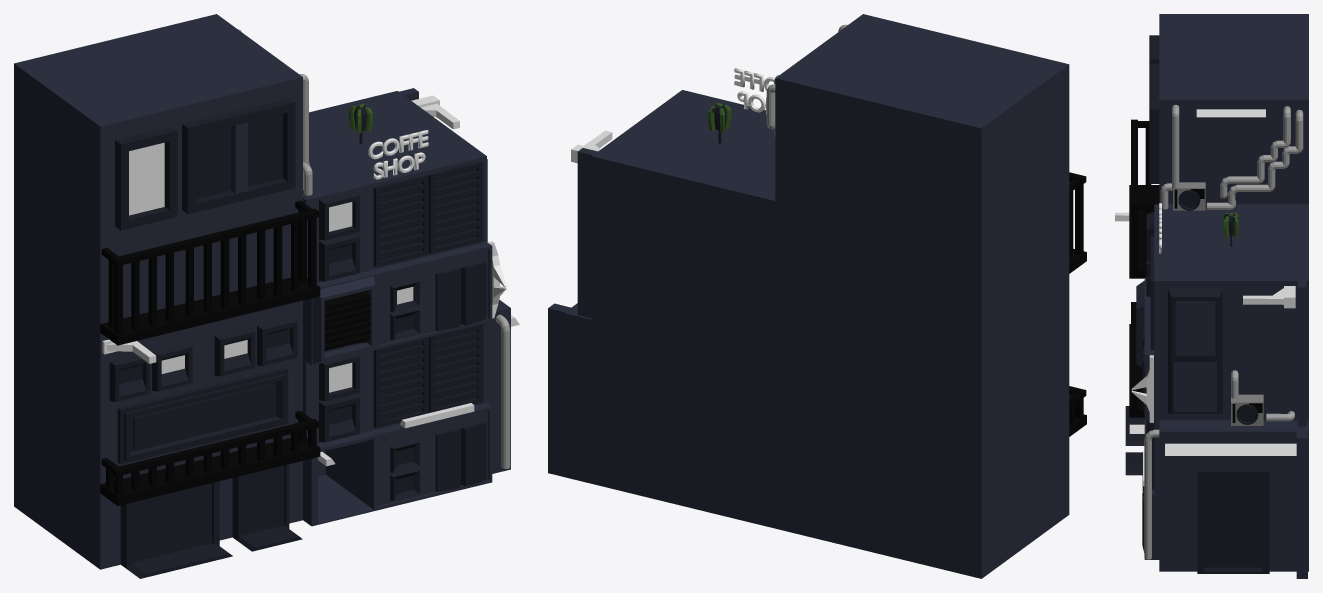
The model's file is bina3.fbx.
3 views of the same model, side by side, from view 1: azimuth 30°, elevation 25°; view 2: azimuth 150°, elevation 25°; view 3: azimuth 270°, elevation 25° (orthographic). The views are drawn at different scales.
Visible parts, largest first — view 1: Cube.001, Cube.041, Cube, Cube.033, Cube.060, Cube.048, Plane.008, Cube.058, Text.004, Cube.044, Cube.056, Cube.010 (+1 smaller); view 2: Cube.001, Cube, Cube.033, Text.004; view 3: Cube.001, Cube, Cube.041, Plane.008, Cube.033, Cube.042, Cube.011, Cube.060, Cube.005, Cube.010, Cube.045, Cube.043 (+1 smaller).
Part boxes in pixels (left/top/right/bottom): Cube.001: left=14, top=14, right=492, bottom=408; Cube.041: left=109, top=98, right=487, bottom=500; Cube: left=14, top=300, right=510, bottom=569; Cube.033: left=100, top=200, right=320, bottom=505; Cube.060: left=120, top=464, right=302, bottom=578; Cube.048: left=324, top=290, right=370, bottom=351; Plane.008: left=238, top=29, right=510, bottom=468; Cube.058: left=129, top=142, right=164, bottom=215; Text.004: left=368, top=129, right=428, bottom=179; Cube.044: left=400, top=403, right=474, bottom=428; Cube.056: left=161, top=340, right=247, bottom=373; Cube.010: left=411, top=95, right=459, bottom=129; Cube.001: left=577, top=14, right=1069, bottom=414; Cube: left=548, top=303, right=1069, bottom=578; Cube.033: left=1069, top=172, right=1086, bottom=436; Text.004: left=734, top=68, right=774, bottom=114; Cube.001: left=1136, top=14, right=1308, bottom=426; Cube: left=1144, top=420, right=1308, bottom=578; Cube.041: left=1142, top=35, right=1269, bottom=573; Plane.008: left=1144, top=104, right=1303, bottom=559; Cube.033: left=1129, top=119, right=1159, bottom=417; Cube.042: left=1165, top=443, right=1296, bottom=455; Cube.011: left=1231, top=394, right=1263, bottom=425; Cube.060: left=1125, top=406, right=1144, bottom=475; Cube.005: left=1173, top=182, right=1205, bottom=210; Cube.010: left=1243, top=286, right=1295, bottom=308; Cube.045: left=1131, top=355, right=1153, bottom=422; Cube.043: left=1196, top=109, right=1265, bottom=117.
Size of the model in its own units: 1055 by 1046 by 478.
